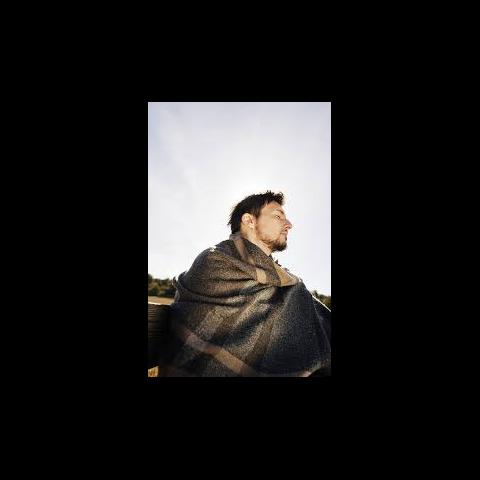closed: (271, 208, 288, 226)
